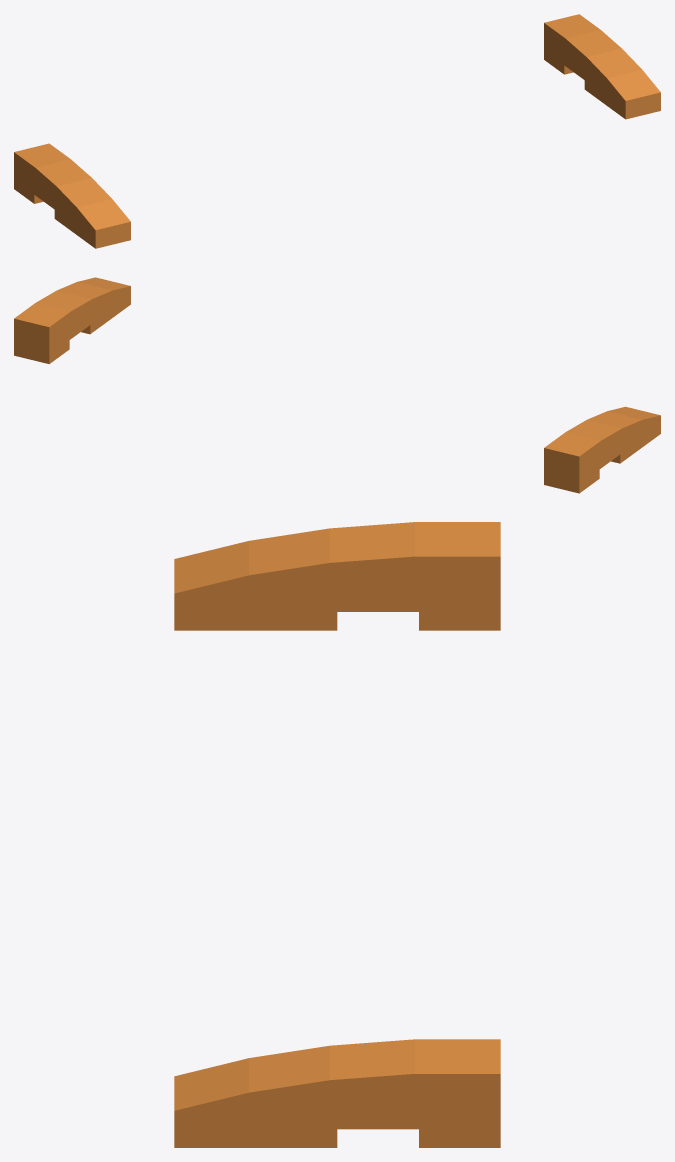
File: bj_sc_1_doorlight.obj
3 views of the same model, one above another, from view 1: azimuth 30°, elevation 25°; view 2: azimuth 150°, elevation 25°; view 3: azimuth 270°, elevation 25° (orthographic). The views are drawn at different scales.
Visible parts, largest first — view 1: l, r; view 2: r, l; view 3: r, l.
Boxes of the visible parts, x1,y1,x2,y2 form: l: [14, 143, 130, 248]; r: [544, 14, 660, 119]; r: [14, 277, 130, 364]; l: [544, 406, 660, 493]; r: [174, 1039, 500, 1147]; l: [174, 522, 500, 630].
Bounding box in the file's own units: 1 × 0.0626 × 0.2501.
Materials: 1 (1 with a texture image).
